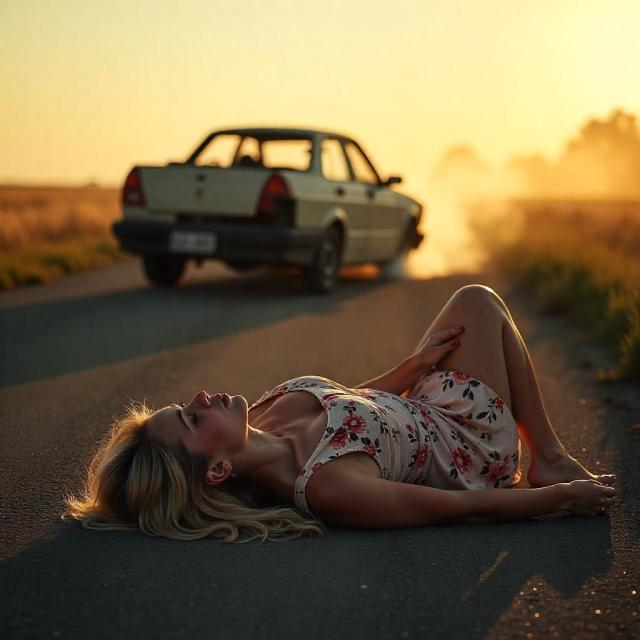injury: (92, 391, 261, 538)
no injury: (68, 281, 614, 541)
